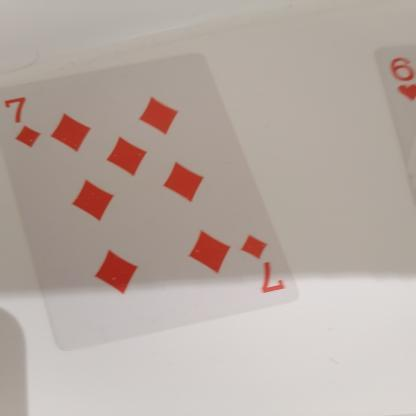7D: (228, 226, 289, 298), (4, 83, 45, 155)
